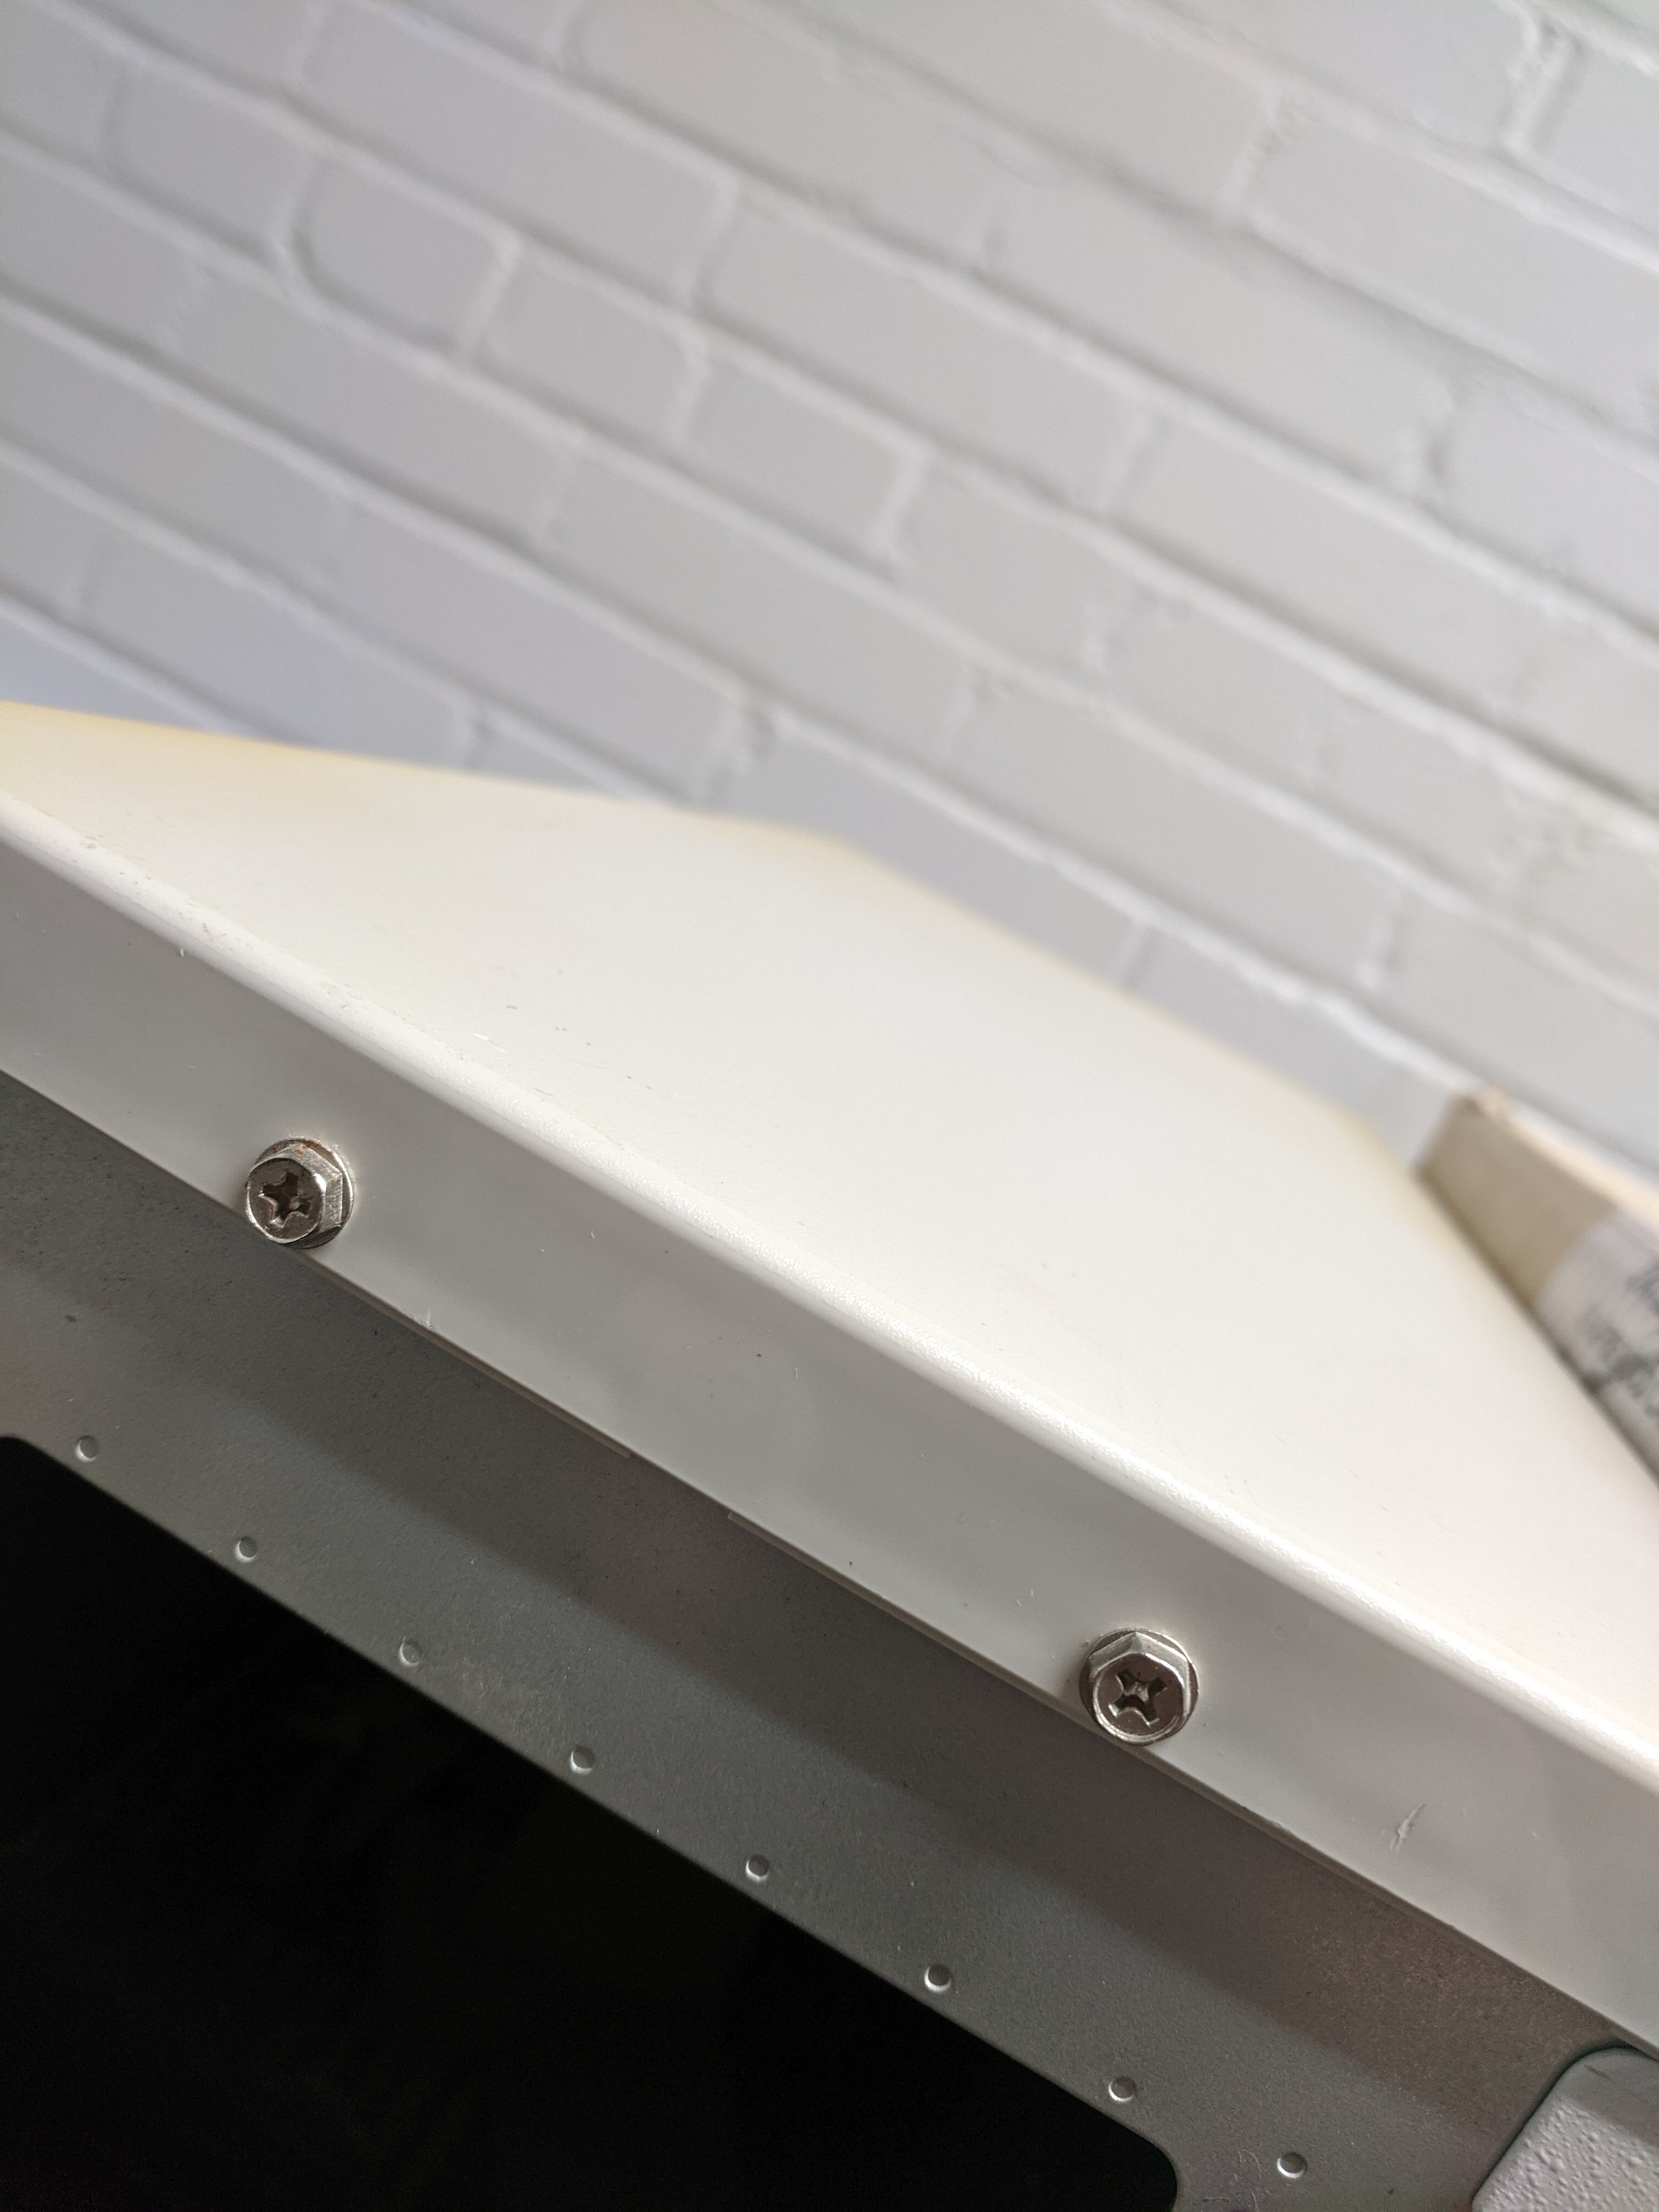cross_recessed_screw: (1080, 1623, 1194, 1742), (221, 1137, 331, 1240)
